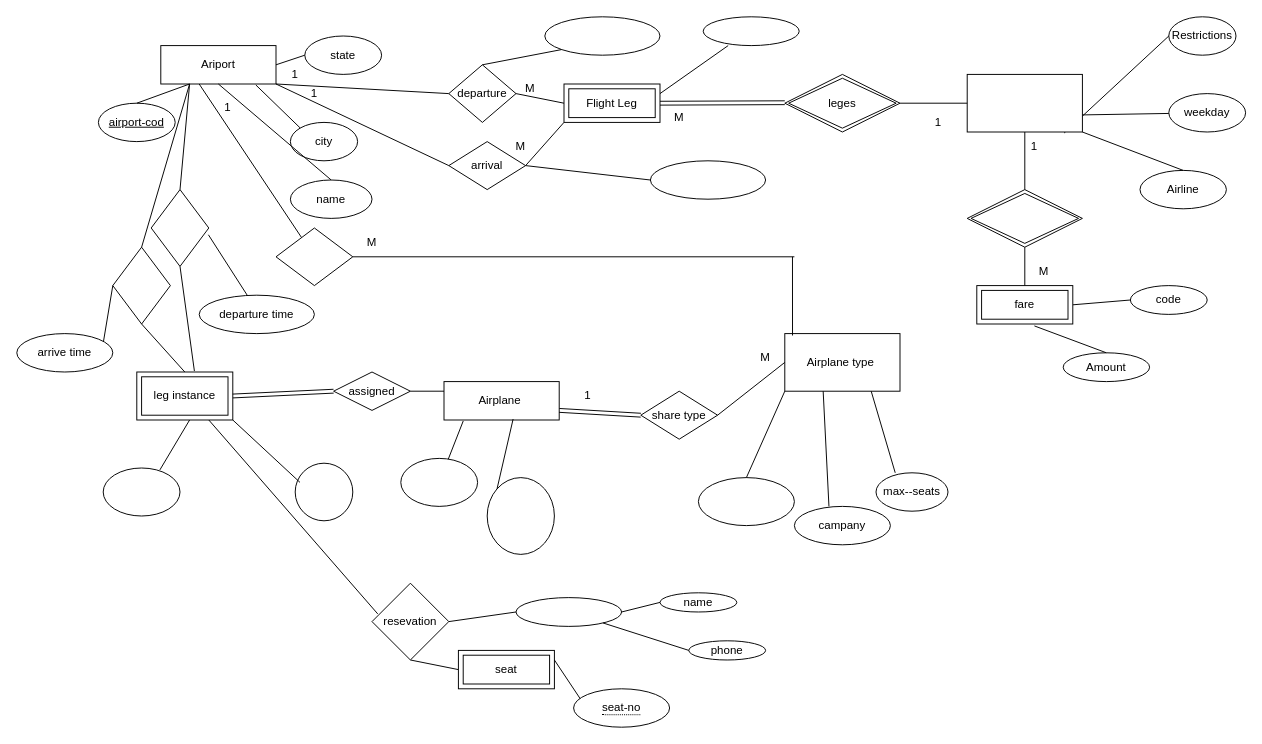
Some shapes in this 1262 by 744 pixel diagram are drawn without their labels. The box of each missing label's shape, as (x1, y1, x2, y2) in pixels:
airplane-id: (400, 457, 478, 506)
allow landing: (275, 227, 353, 286)
arriva: (150, 189, 209, 266)
customer: (515, 597, 622, 626)
date: (102, 467, 180, 516)
departs: (112, 246, 170, 324)
flight: (966, 73, 1082, 132)
have: (966, 189, 1082, 247)
leg-no: (702, 16, 799, 46)
number of available seate: (294, 462, 353, 521)
scheduled-arr-time: (649, 160, 766, 199)
scheduled-dep-time: (544, 16, 660, 55)
total number of seat: (486, 477, 554, 554)
type--name: (697, 477, 794, 526)
